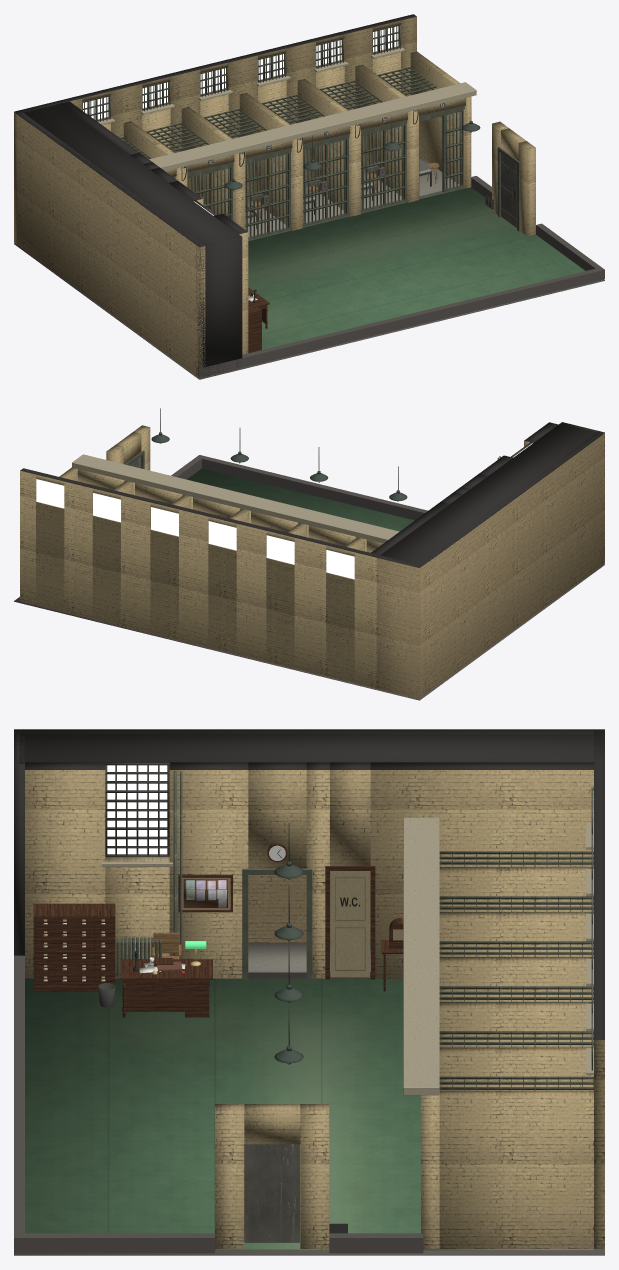
The model's file is room.glb.
3 views of the same model, one above another, from view 1: azimuth 30°, elevation 25°; view 2: azimuth 150°, elevation 25°; view 3: azimuth 270°, elevation 25° (orthographic). The views are drawn at different scales.
Parts seen in each view (by area): view 1: floor_mile, left_wall_ext, furn_gm_iron, arch_gm_brick, pass_cap, pass_front, kerb_front_ext, ledge, part_right_cell, furn_gm_iron_dark, part_cell3, part_cell5 (+25 smaller); view 2: left_wall_ext, pass_cap, back_wall_pass_ext, ledge, back_wall_3_ext, arch_gm_brick, back_wall_6_ext, back_wall_9_ext, back_wall_12_ext, gm_window_glass, back_wall_15_ext, floor_mile (+13 smaller); view 3: floor_mile, part_right_cell, end_wall_6, pass_cap, furn_gm_iron, furn_gm_desk_wood, arch_gm_brick, end_wall_2, end_wall_0, ledge, end_wall_3, part_cell1 (+23 smaller).
Part boxes in pixels (box(x1,y1,x2,y2)): floor_mile: box(248, 187, 584, 349); left_wall_ext: box(17, 113, 205, 377); furn_gm_iron: box(84, 25, 520, 240); arch_gm_brick: box(165, 96, 535, 236); pass_cap: box(15, 104, 239, 245); pass_front: box(196, 235, 242, 377); kerb_front_ext: box(196, 268, 604, 378); ledge: box(149, 82, 476, 170); part_right_cell: box(410, 51, 465, 187); furn_gm_iron_dark: box(82, 25, 516, 228); part_cell3: box(239, 93, 290, 224); part_cell5: box(355, 64, 406, 196); left_wall_ext: box(419, 431, 604, 696); pass_cap: box(380, 423, 602, 566); back_wall_pass_ext: box(376, 555, 422, 698); ledge: box(72, 454, 399, 543); back_wall_3_ext: box(294, 535, 328, 676); arch_gm_brick: box(78, 425, 383, 552); back_wall_6_ext: box(236, 521, 269, 661); back_wall_9_ext: box(179, 507, 211, 647); back_wall_12_ext: box(121, 493, 153, 633); gm_window_glass: box(36, 479, 354, 579); back_wall_15_ext: box(64, 479, 95, 619); floor_mile: box(187, 468, 414, 531); floor_mile: box(25, 978, 420, 1250); part_right_cell: box(439, 1090, 593, 1248); end_wall_6: box(370, 762, 593, 978); pass_cap: box(19, 729, 599, 763); furn_gm_iron: box(115, 771, 593, 1090); furn_gm_desk_wood: box(33, 843, 403, 1017); arch_gm_brick: box(215, 1095, 439, 1248); end_wall_2: box(169, 762, 248, 978); end_wall_0: box(25, 762, 105, 978); ledge: box(403, 817, 439, 1095); end_wall_3: box(248, 762, 306, 868); part_cell1: box(439, 867, 593, 911).
Bounding box in the file's own units: 9.6 × 3.01 × 7.6.
Materials: 34 (13 with a texture image).
